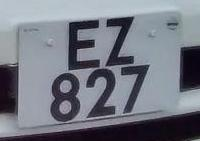2: (84, 64, 119, 119)
7: (117, 59, 155, 117)
8: (42, 66, 91, 125)
E: (64, 15, 104, 69)
Z: (100, 11, 147, 72)
